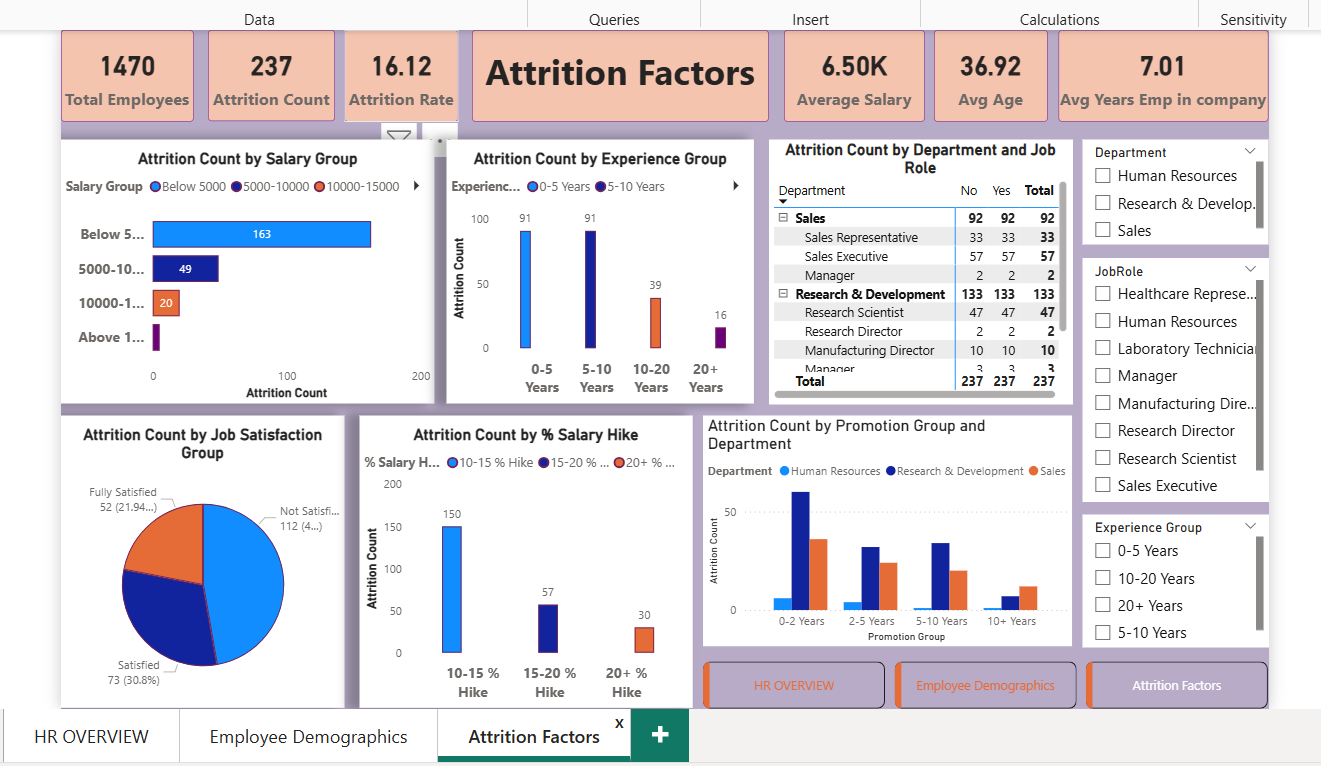

The dashboard page shown, as its layout file describes it:
{"tool":"powerbi","page":{"name":"Attrition Factors","canvas":[1280,720],"ordinal":2},"visuals":[{"type":"textbox","box":[435.8,0,314.9,97],"z":0},{"type":"card","fields":{"Values":["Fact-Employee.Total Employees"]},"box":[0,0,140.9,97.2],"z":1000},{"type":"card","fields":{"Values":["Dim-Department.Attrition Count"]},"box":[155.6,0,134.9,96.8],"z":2000},{"type":"card","fields":{"Values":["Fact-Employee.Attrition Rate"]},"box":[300.6,0,120.9,97],"z":3000},{"type":"card","fields":{"Values":["Fact-Employee.Average Salary"]},"box":[766.7,0,149.5,97],"z":4000},{"type":"card","fields":{"Values":["Fact-Employee.Avg Years Emp in company"]},"box":[1057.8,0,222.7,97],"z":5000},{"type":"card","fields":{"Values":["Fact-Employee.Avg Age"]},"box":[925.7,0,120.9,97],"z":6000},{"type":"pageNavigator","box":[680.6,669.4,600,50],"z":7000},{"type":"barChart","title":"Attrition Count by Salary Group ","fields":{"Y":["Dim-Department.Attrition Count"],"Category":["Fact-Employee.Salary Group"],"Series":["Fact-Employee.Salary Group"]},"box":[0,116.1,396.1,279.9],"z":8000},{"type":"clusteredColumnChart","title":"Attrition Count by Experience Group","fields":{"Category":["Fact-Employee.Experience Group"],"Y":["Dim-Department.Attrition Count"],"Series":["Fact-Employee.Experience Group"]},"box":[408.8,116.1,326.1,279.9],"z":9000},{"type":"pieChart","fields":{"Y":["Dim-Department.Attrition Count"],"Category":["Fact-Employee.Job Satisfaction Group"]},"box":[0,408.8,300.6,310.2],"z":10000},{"type":"clusteredColumnChart","fields":{"Y":["Dim-Department.Attrition Count"],"Category":["Fact-Employee.Promotion Group"],"Series":["Dim-Department.Department"]},"box":[680.8,408.8,391.3,245],"z":11000},{"type":"clusteredColumnChart","title":"Attrition Count by % Salary Hike ","fields":{"Y":["Dim-Department.Attrition Count"],"Category":["Fact-Employee.Total Working Years Group"],"Series":["Fact-Employee.Total Working Years Group"]},"box":[316.5,408.8,353.1,310.2],"z":12000},{"type":"pivotTable","title":"Attrition Count by Department and Job Role","fields":{"Rows":["Dim-Department.Department","Dim-Department.JobRole"],"Columns":["Dim-Department.Attrition"],"Values":["Dim-Department.Attrition Count"]},"box":[750.8,116.1,321.3,279.9],"z":13000},{"type":"slicer","fields":{"Values":["Dim-Department.Department"]},"box":[1083.9,116.1,196.8,111.3],"z":14000},{"type":"slicer","fields":{"Values":["Dim-Department.JobRole"]},"box":[1083.2,241.8,197.2,257.7],"z":15000},{"type":"slicer","fields":{"Values":["Fact-Employee.Experience Group"]},"box":[1083.2,513.8,197.2,140],"z":16000}]}

Visuals, with their boxes on the page's 1280x720 design canvas (x1, y1, x2, y2). These are canvas units, not pixel positions in the 1321x766 screenshot, which may show the page scaled, cropped or inside an application window:
textbox: 436, 0, 751, 97
card - Fact-Employee.Total Employees: 0, 0, 141, 97
card - Dim-Department.Attrition Count: 156, 0, 290, 97
card - Fact-Employee.Attrition Rate: 301, 0, 422, 97
card - Fact-Employee.Average Salary: 767, 0, 916, 97
card - Fact-Employee.Avg Years Emp in company: 1058, 0, 1280, 97
card - Fact-Employee.Avg Age: 926, 0, 1047, 97
pageNavigator: 681, 669, 1281, 719
"Attrition Count by Salary Group " barChart: 0, 116, 396, 396
"Attrition Count by Experience Group" clusteredColumnChart: 409, 116, 735, 396
pieChart - Dim-Department.Attrition Count x Fact-Employee.Job Satisfaction Group: 0, 409, 301, 719
clusteredColumnChart - Dim-Department.Attrition Count x Fact-Employee.Promotion Group: 681, 409, 1072, 654
"Attrition Count by % Salary Hike " clusteredColumnChart: 316, 409, 670, 719
"Attrition Count by Department and Job Role" pivotTable: 751, 116, 1072, 396
slicer - Dim-Department.Department: 1084, 116, 1281, 227
slicer - Dim-Department.JobRole: 1083, 242, 1280, 500
slicer - Fact-Employee.Experience Group: 1083, 514, 1280, 654
